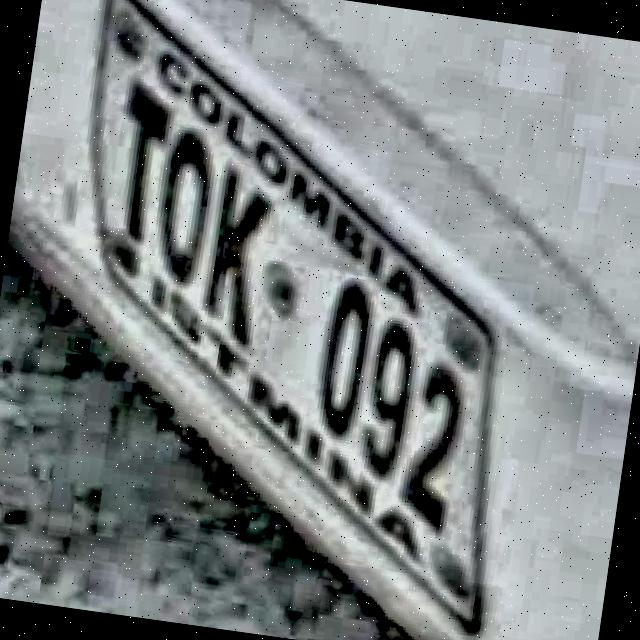0: (301, 260, 387, 454)
2: (392, 336, 475, 545)
9: (352, 297, 429, 496)
K: (194, 149, 282, 357)
O: (147, 111, 225, 304)
T: (109, 69, 177, 256)
